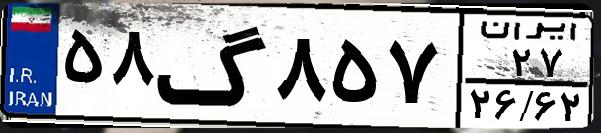2: (560, 70, 590, 125), (508, 27, 537, 80), (470, 70, 495, 125)
5: (330, 28, 385, 110), (57, 26, 110, 100)
6: (495, 70, 520, 125), (535, 70, 560, 125)
7: (385, 28, 445, 110), (537, 27, 568, 80)
8: (270, 28, 330, 110), (110, 28, 156, 98)
گ: (156, 12, 270, 120)
